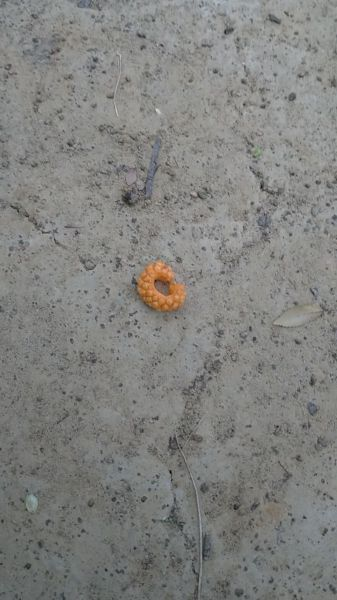eggs: (137, 257, 191, 314)
